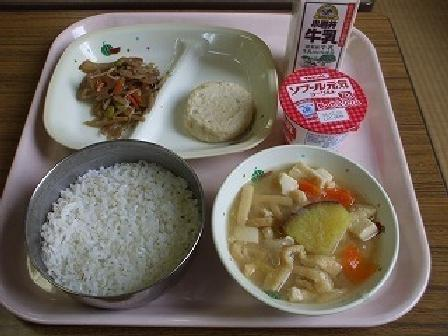Cup desserts: (274, 66, 381, 154)
Meat: (178, 76, 272, 155)
Milk: (279, 3, 369, 79)
Rice: (32, 145, 205, 307)
Soups: (217, 151, 401, 310)
salad with sauce: (73, 52, 169, 135)
